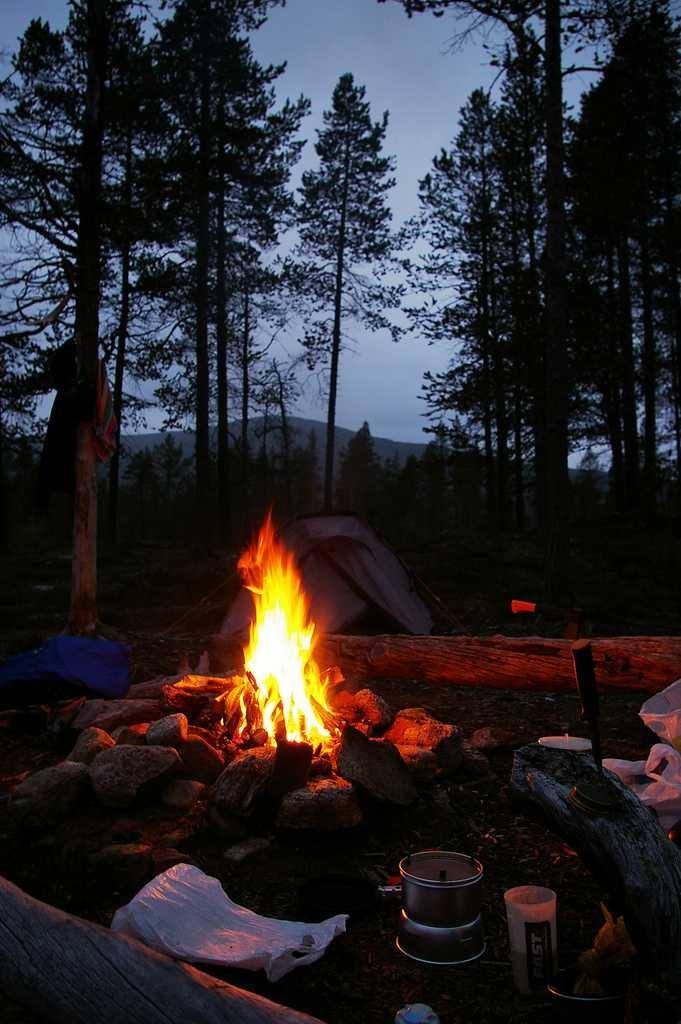fire: (255, 562, 312, 715)
